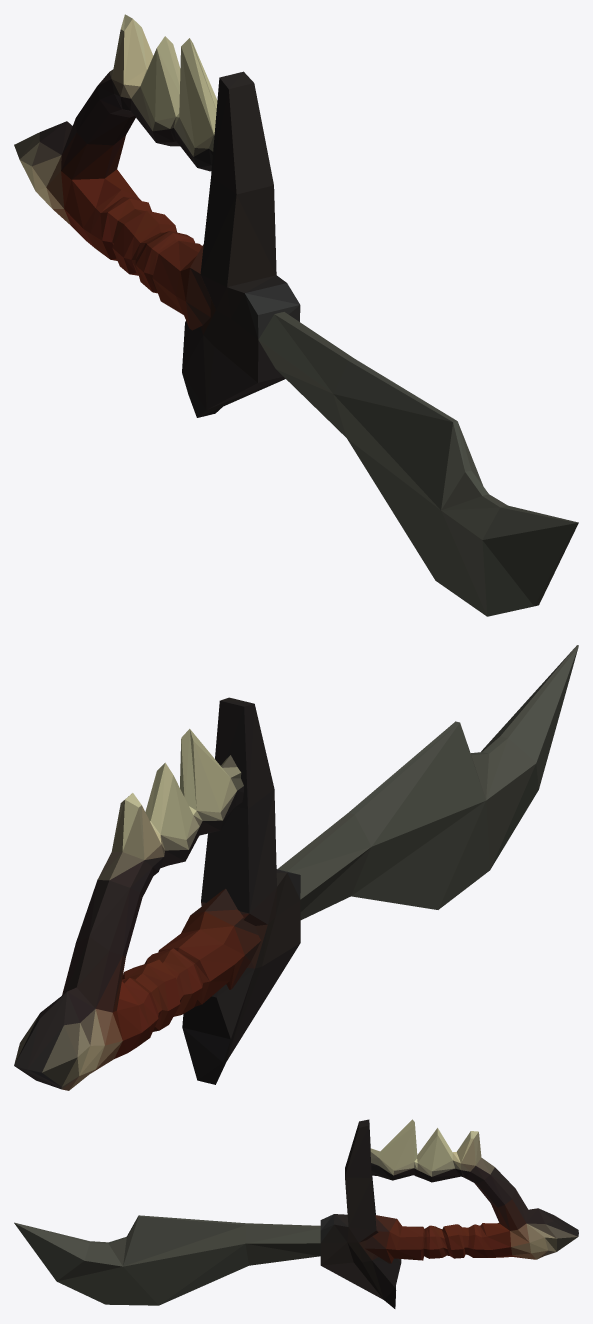
Rendered from weapon_dagger_red.fbx.
The picture shows the model from 3 angles, top to bottom: view 1: azimuth 30°, elevation 25°; view 2: azimuth 150°, elevation 25°; view 3: azimuth 270°, elevation 25°; orthographic projection. The views are drawn at different scales.
Visible parts, largest first — view 1: weapon_dagger_red; view 2: weapon_dagger_red; view 3: weapon_dagger_red.
Part boxes in pixels (x1,y1,x2,y2): weapon_dagger_red: [14, 14, 578, 616]; weapon_dagger_red: [14, 645, 578, 1090]; weapon_dagger_red: [14, 1119, 578, 1308].
Size of the model in its own units: 0.0938 by 0.5597 by 1.53.
